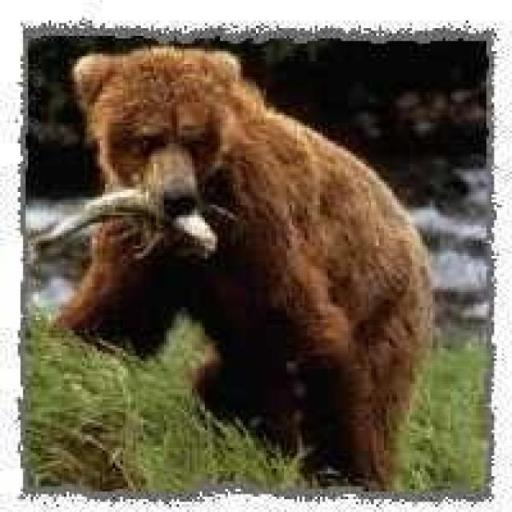Bear: (46, 44, 436, 489)
